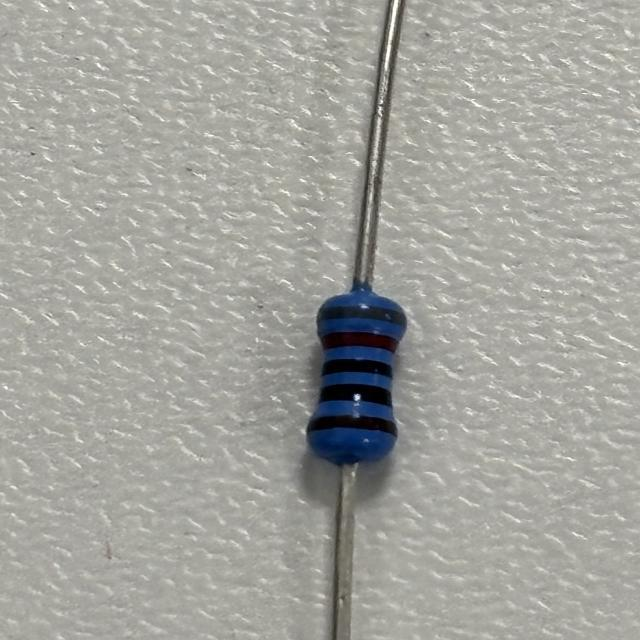resistor: (302, 294, 409, 463)
